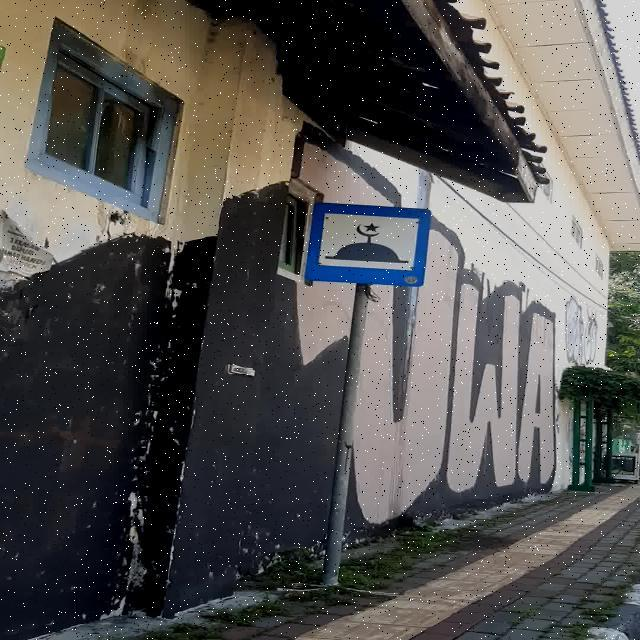Masjid: (306, 202, 432, 288)
